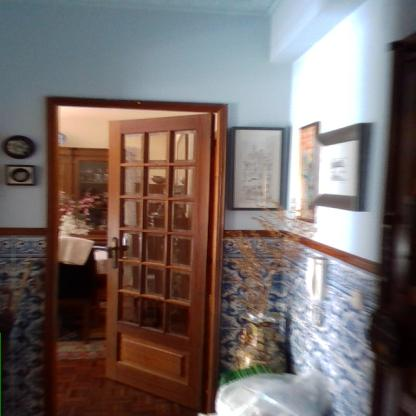open: (36, 94, 240, 396)
